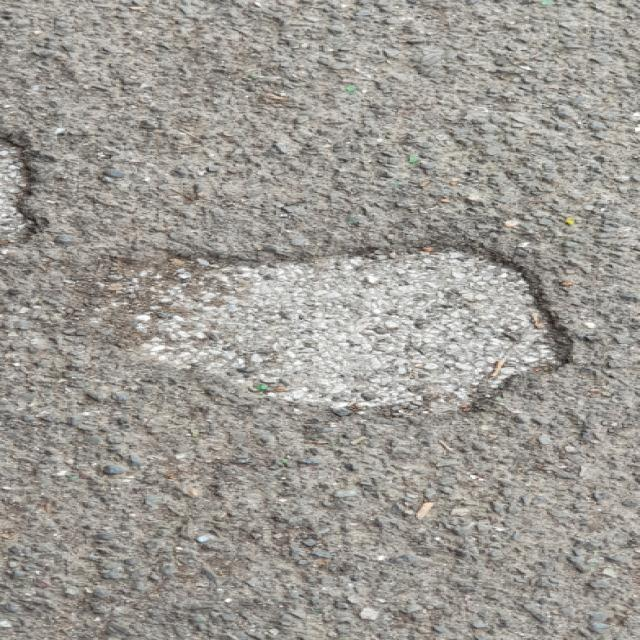pothole: (86, 232, 584, 424)
